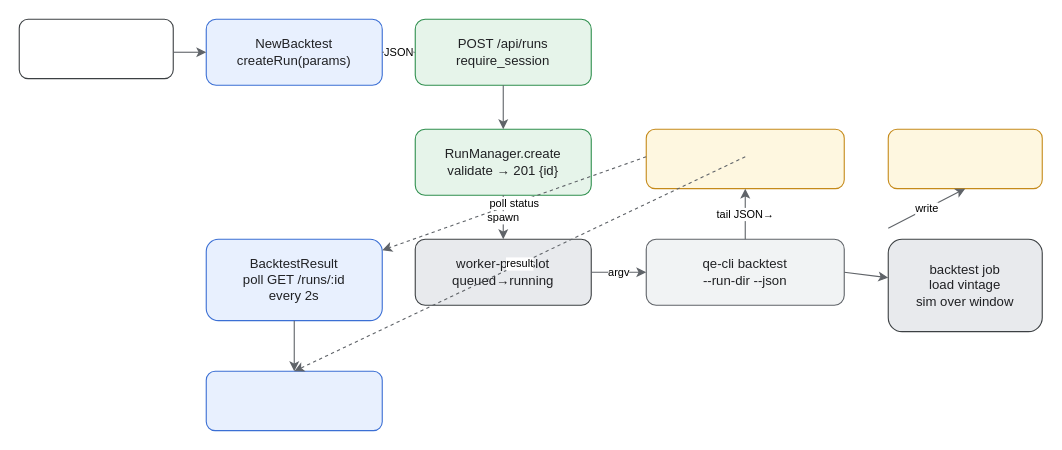
Image size: 1062x450. Some labels were removed from this diagram. The shapes that lost their labels are listed below. From the top down, each one's centre as x and y in pixels, then its label:
At (95,48): "User New backtest".
At (744,158): "meta.json status+progress".
At (964,158): "result.json §8.1 contract".
At (293,400): "render metrics/charts GET /runs/:id/result".
